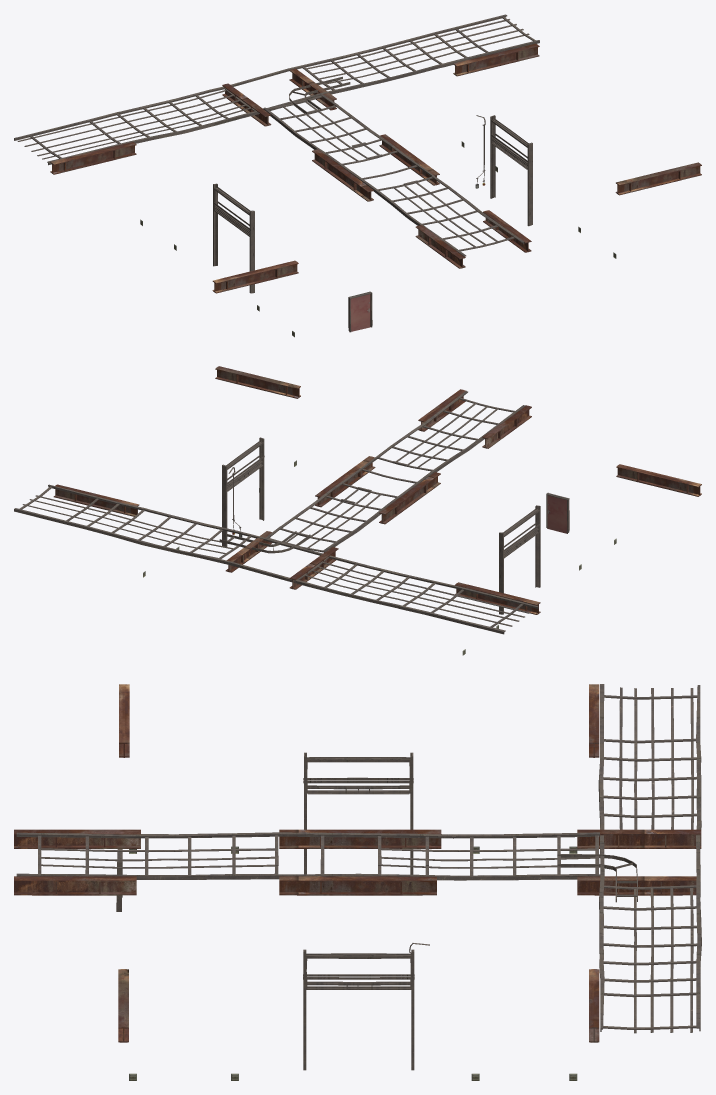
The model's file is SlidingPannelsGate.fbx.
The picture shows the model from 3 angles, top to bottom: view 1: azimuth 30°, elevation 25°; view 2: azimuth 150°, elevation 25°; view 3: azimuth 270°, elevation 25°; orthographic projection. The views are drawn at different scales.
Visible parts, largest first — view 1: SlidingPannelsGate; view 2: SlidingPannelsGate; view 3: SlidingPannelsGate.
Part boxes in pixels (<box>): SlidingPannelsGate: <box>14,14,701,337</box>; SlidingPannelsGate: <box>14,366,701,655</box>; SlidingPannelsGate: <box>14,684,701,1080</box>.
Size of the model in its own units: 4357 by 715 by 3637.
